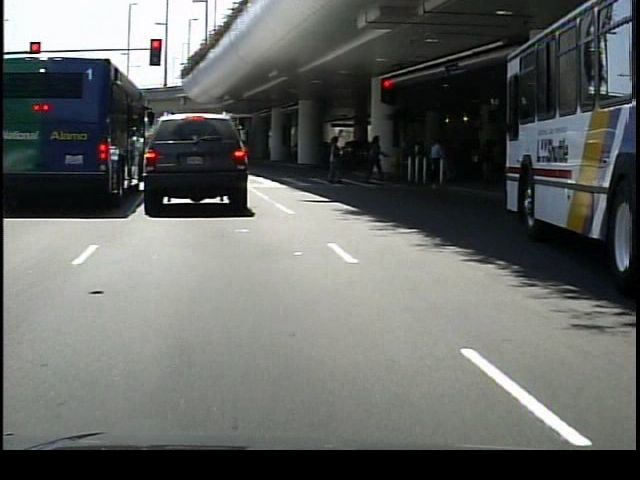person: (363, 131, 389, 186), (322, 132, 348, 186), (424, 136, 448, 192)
